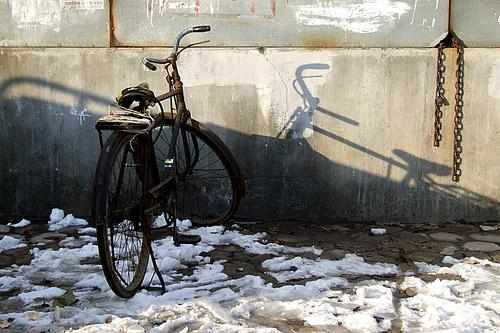car: (93, 25, 245, 302)
